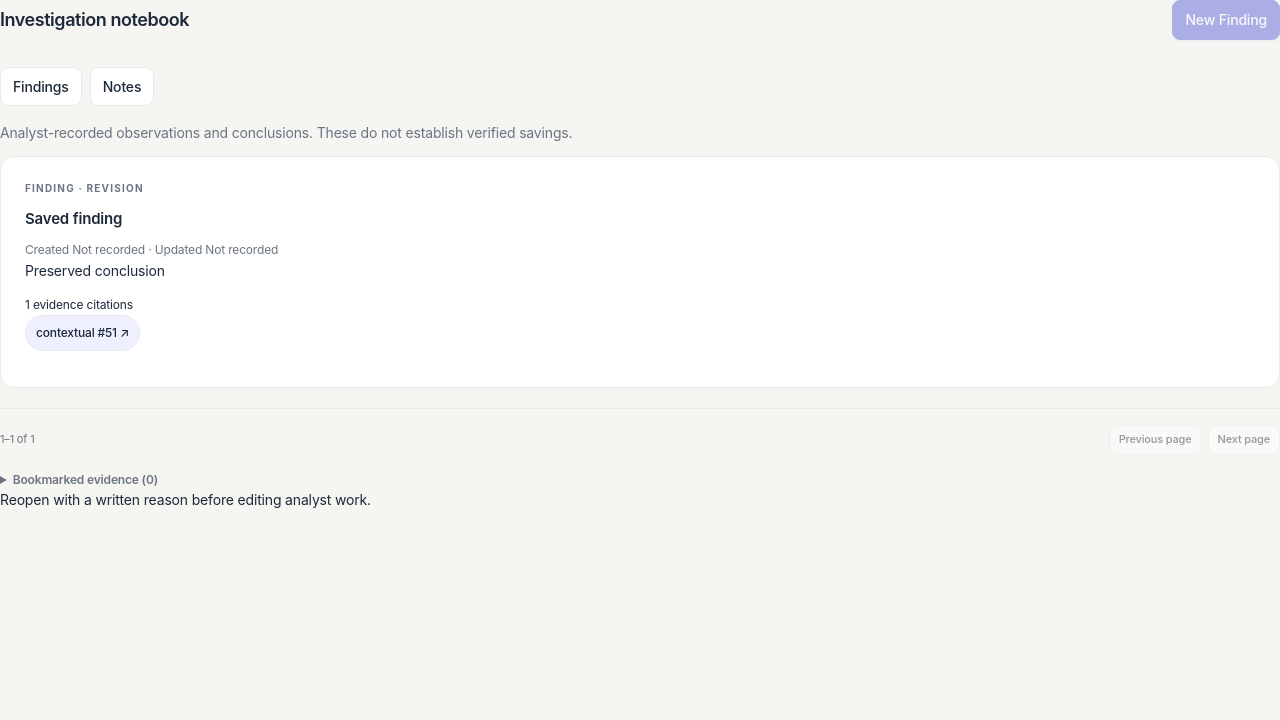
Scenario: opens a finding citation using its frozen case classification and ordinal
Step 1. Click the button "contextual #51 ↗" → (83, 333), box [25,315,140,351]
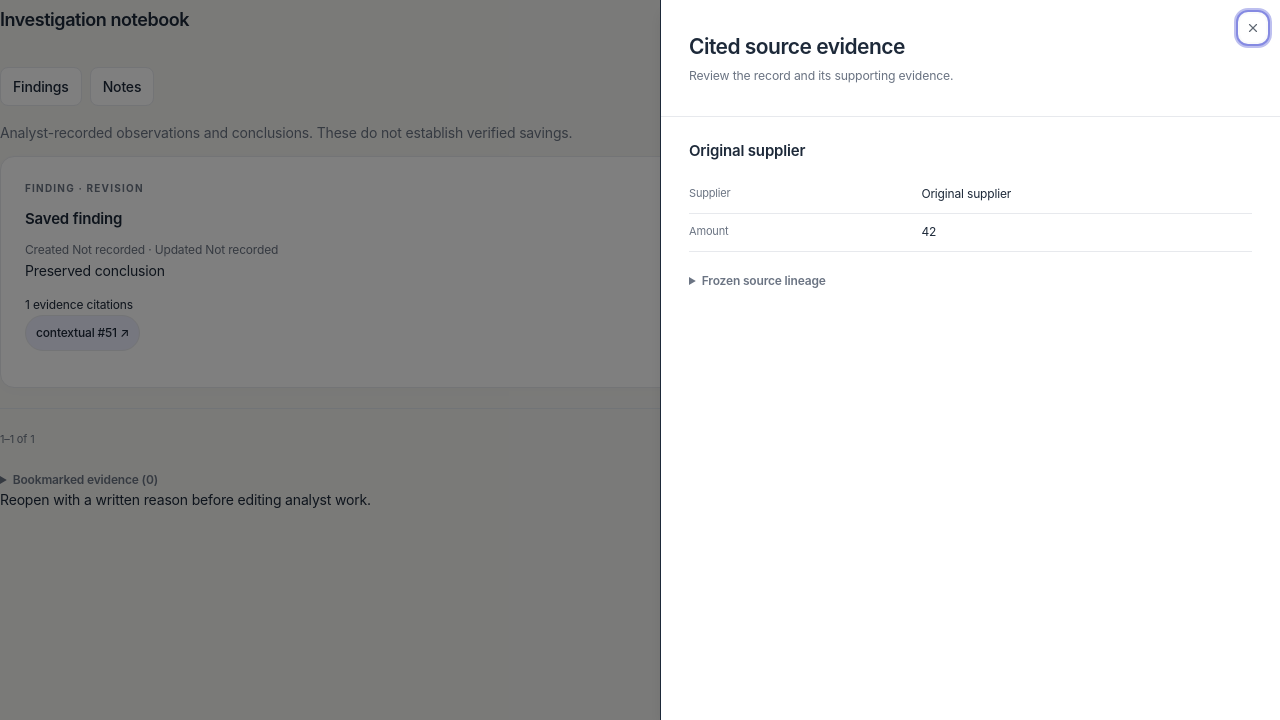
Check: the heading "Original supplier" is shown, box [689,141,805,160]
